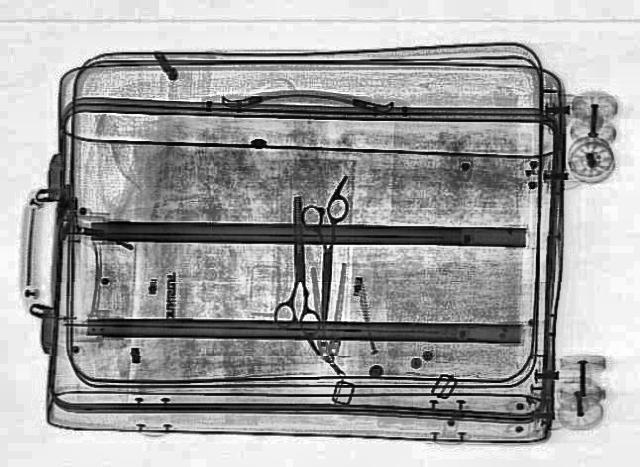Scissors: (292, 194, 348, 320), (273, 198, 321, 336)
